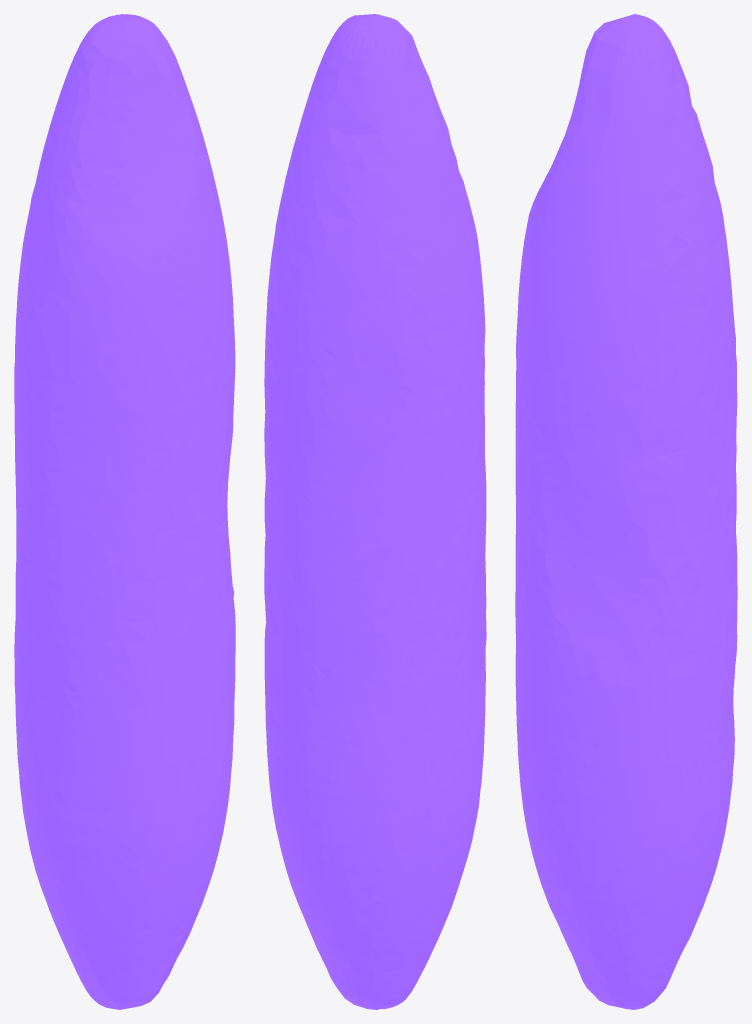
File: Shard3.fbx
3 views of the same model, side by side, from view 1: azimuth 30°, elevation 25°; view 2: azimuth 150°, elevation 25°; view 3: azimuth 270°, elevation 25° (orthographic).
Parts seen in each view (by area): view 1: Shard3; view 2: Shard3; view 3: Shard3.
Boxes of the visible parts, x1=… form: Shard3: x1=14, y1=14, x2=235, y2=1009; Shard3: x1=264, y1=14, x2=486, y2=1009; Shard3: x1=515, y1=14, x2=737, y2=1009.
Bounding box in the file's own units: 198 × 974 × 198.
